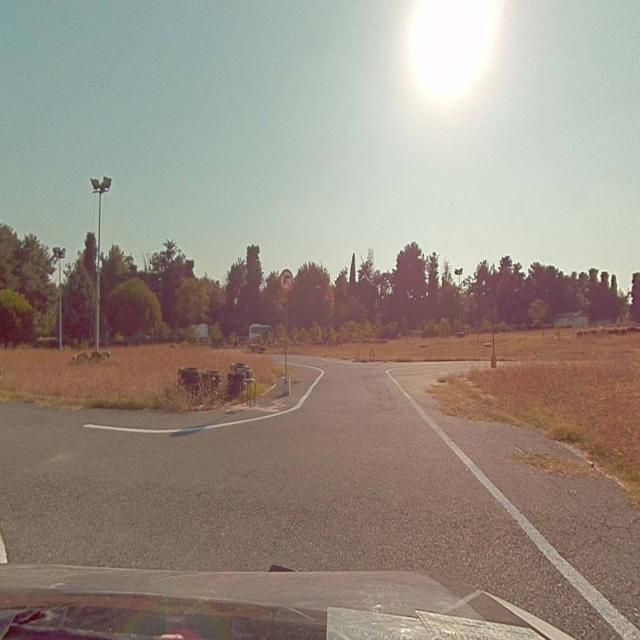sagadonulmez: (280, 268, 292, 290)
